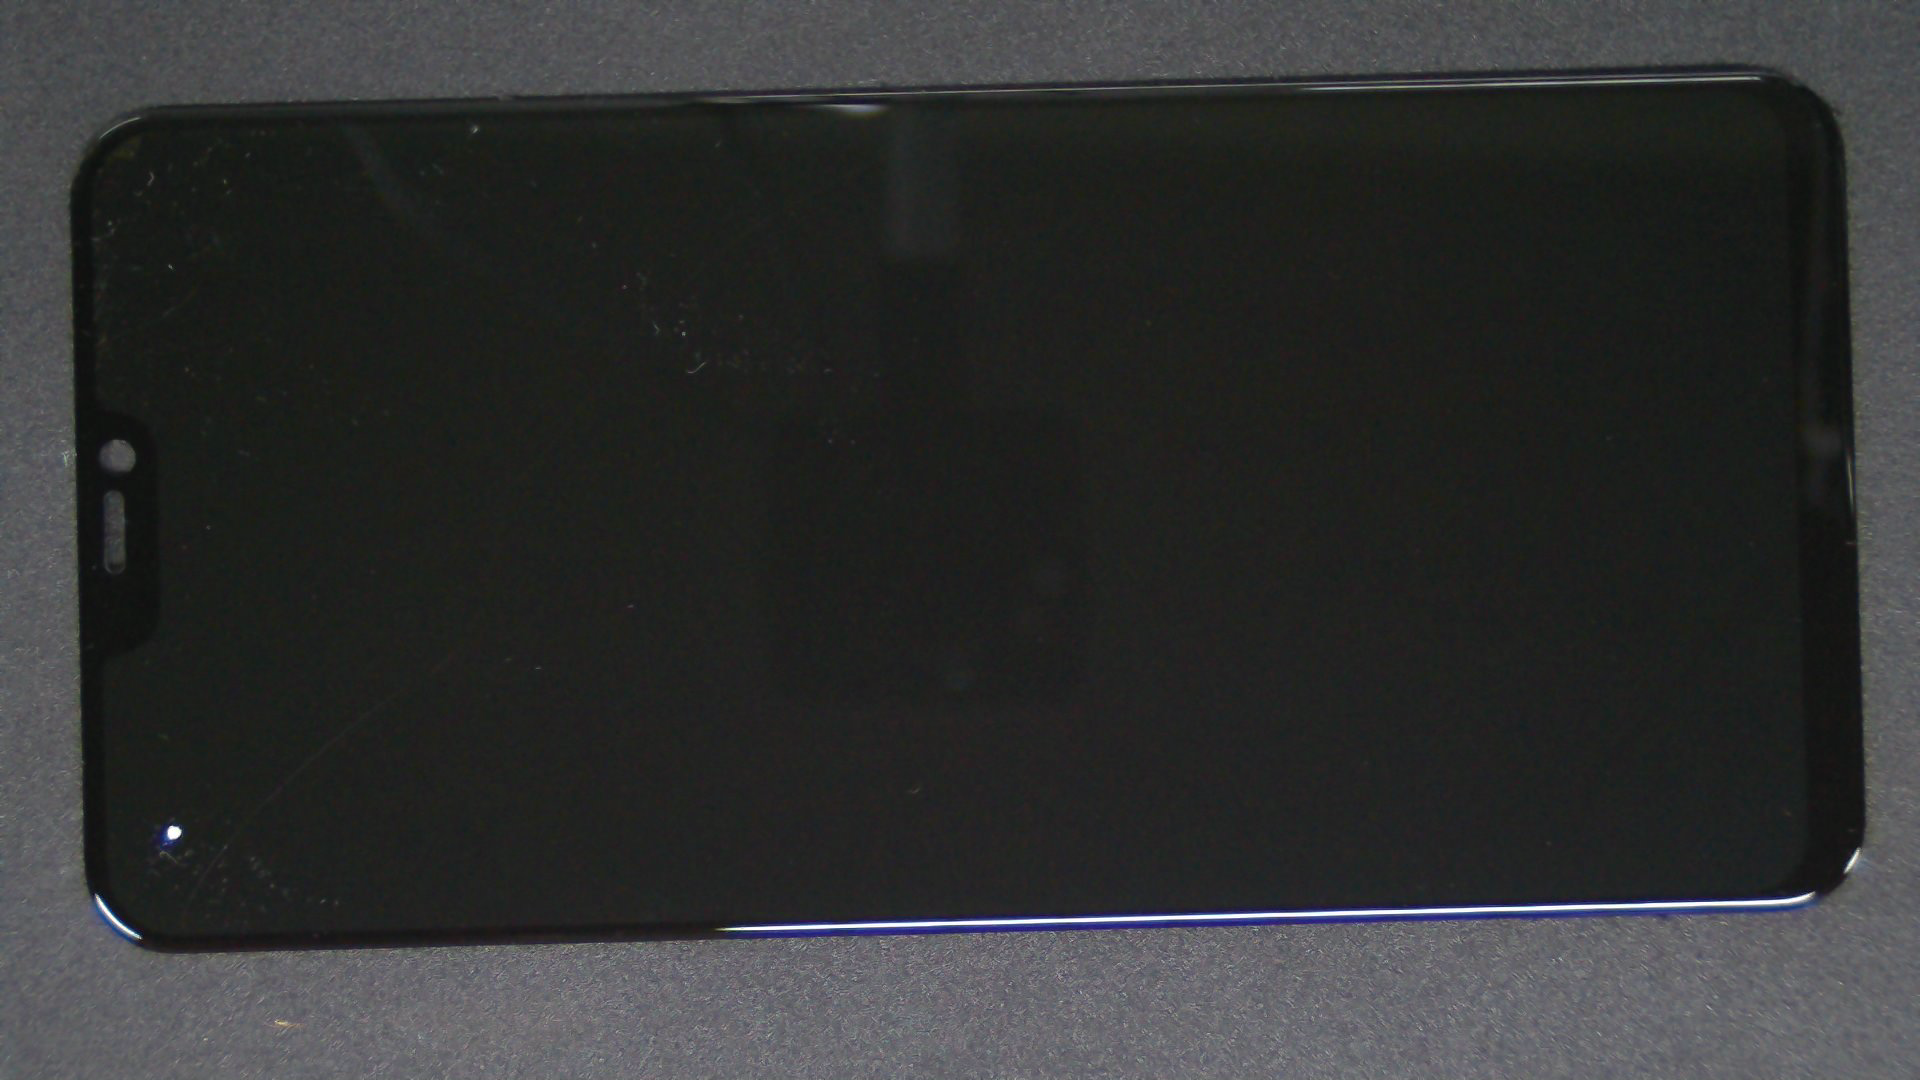defect: (164, 823, 185, 843)
